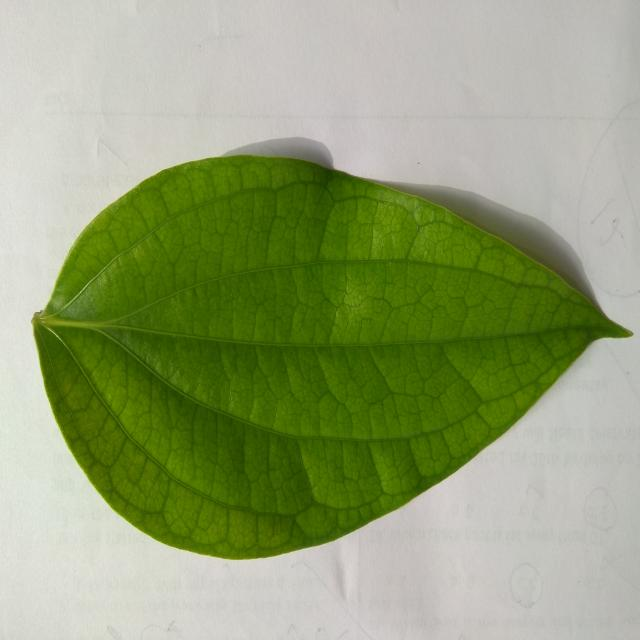pepper: (32, 155, 630, 558)
